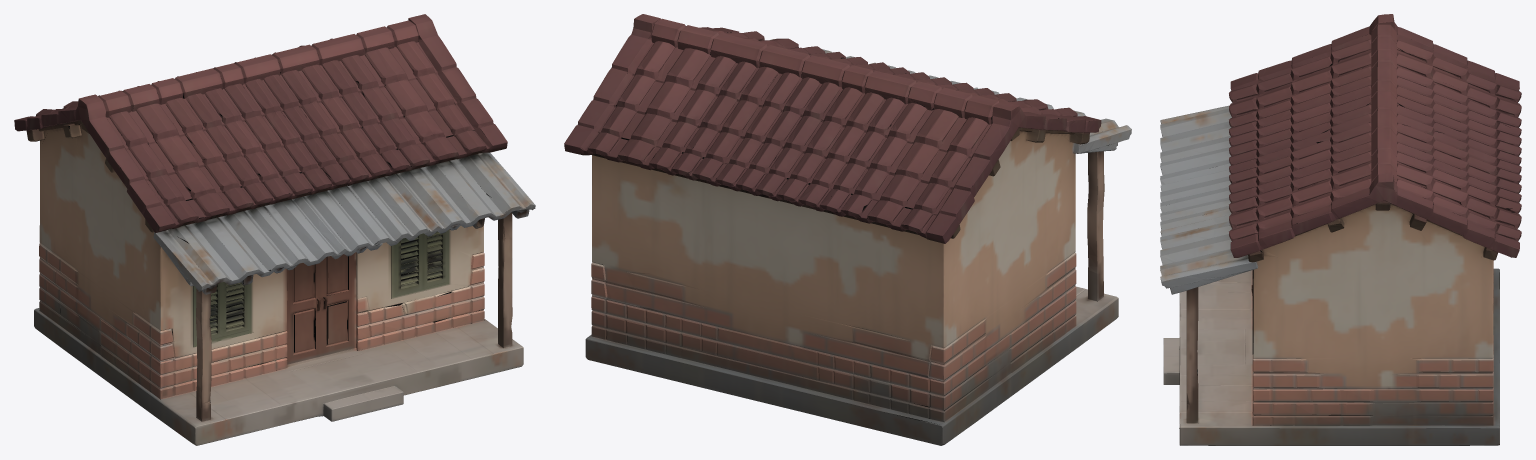
File: NhaQue_Tencent_03.fbx
The picture shows the model from 3 angles, left to right: view 1: azimuth 30°, elevation 25°; view 2: azimuth 150°, elevation 25°; view 3: azimuth 270°, elevation 25°; orthographic projection. The views are drawn at different scales.
Visible parts, largest first — view 1: Nha03_LOD0; view 2: Nha03_LOD0; view 3: Nha03_LOD0.
Part boxes in pixels (x1,y1,x2,y2): Nha03_LOD0: (14, 14, 535, 445); Nha03_LOD0: (564, 14, 1131, 445); Nha03_LOD0: (1160, 14, 1521, 445).
Size of what is drawn, in the model's own units: 7 by 5.19 by 6.29.
